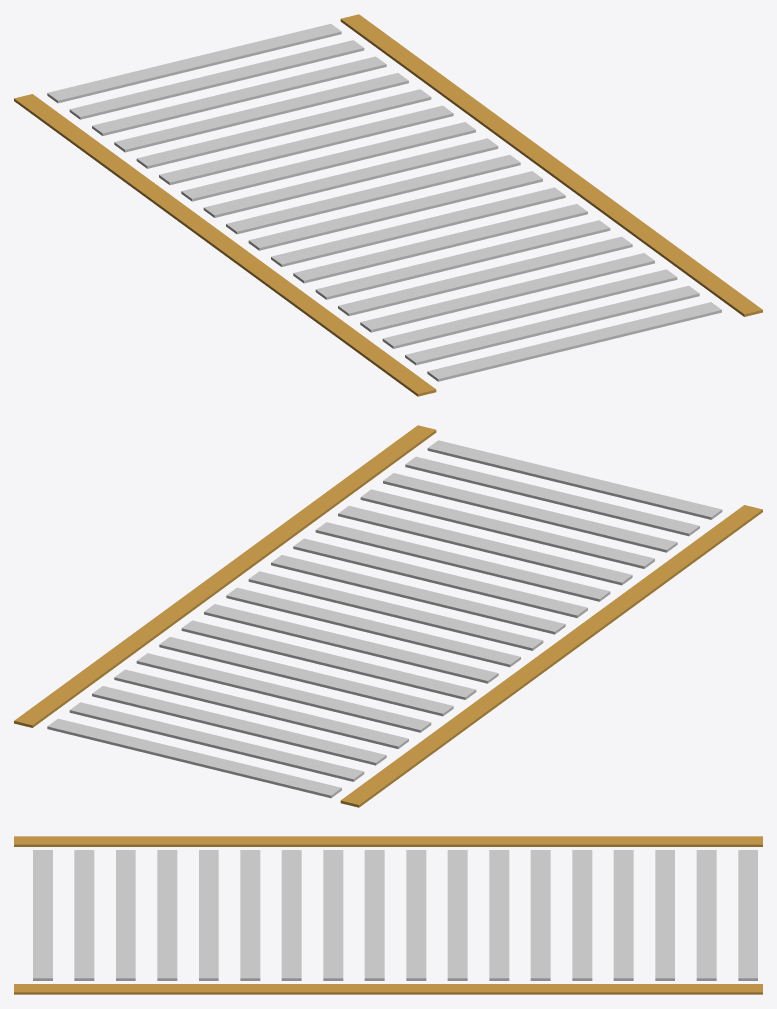
Rendered from level1 floor.fbx.
3 views of the same model, one above another, from view 1: azimuth 30°, elevation 25°; view 2: azimuth 150°, elevation 25°; view 3: azimuth 270°, elevation 25° (orthographic). The views are drawn at different scales.
Visible parts, largest first — view 1: crosswalk; view 2: crosswalk; view 3: crosswalk.
Part boxes in pixels (x1,y1,x2,y2): crosswalk: (14,14,762,396); crosswalk: (14,425,762,807); crosswalk: (14,836,762,994).
Size of what is drawn, in the model's own units: 1102 by 8.08 by 2233.
